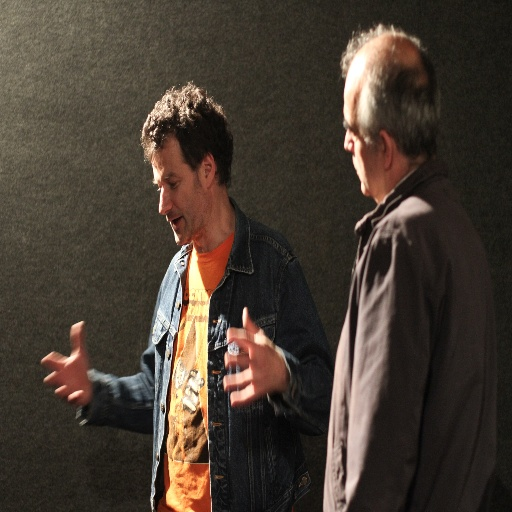hand: (219, 303, 284, 408), (37, 305, 93, 404)
